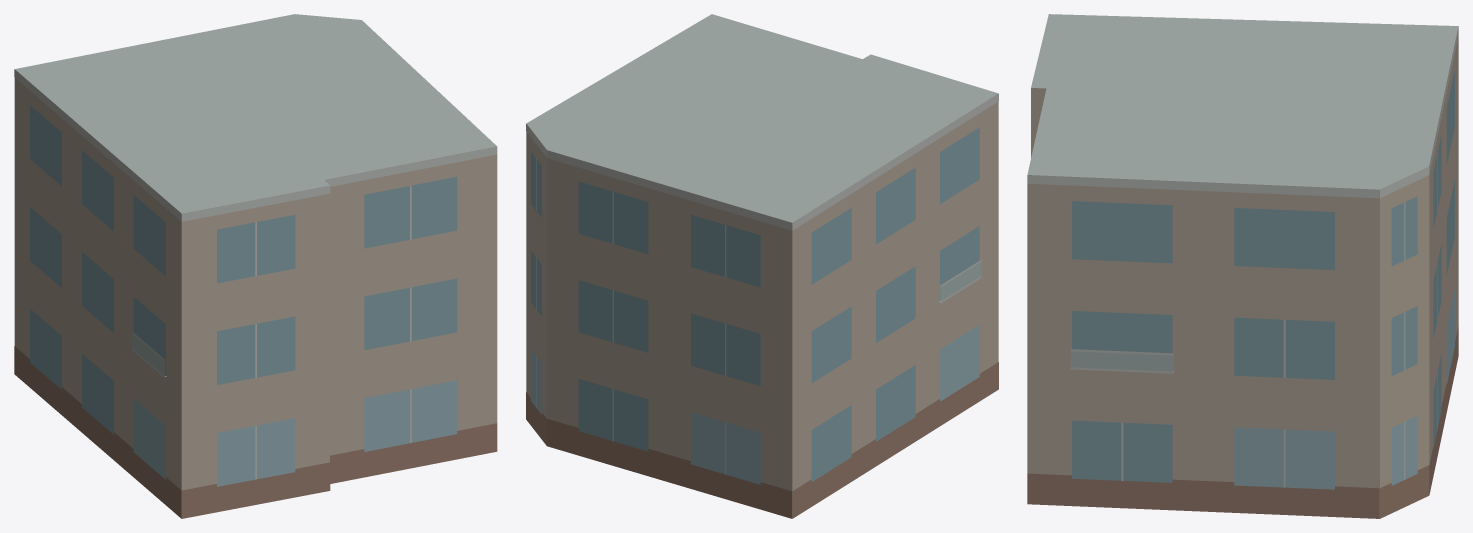
File: survey-upis-32821603.glb
3 renders of one model, left to right at view 1: azimuth 30°, elevation 25°; view 2: azimuth 150°, elevation 25°; view 3: azimuth 270°, elevation 25°, orthographic. The views are drawn at different scales.
Parts seen in each view (by area): view 1: survey-upis-32821603.tmp; view 2: survey-upis-32821603.tmp; view 3: survey-upis-32821603.tmp.
Boxes of the visible parts, x1=… form: survey-upis-32821603.tmp: x1=14, y1=14, x2=497, y2=518; survey-upis-32821603.tmp: x1=526, y1=14, x2=998, y2=518; survey-upis-32821603.tmp: x1=1027, y1=14, x2=1458, y2=518.
Size of the model in its own units: 10.48 by 9.15 by 10.87.
